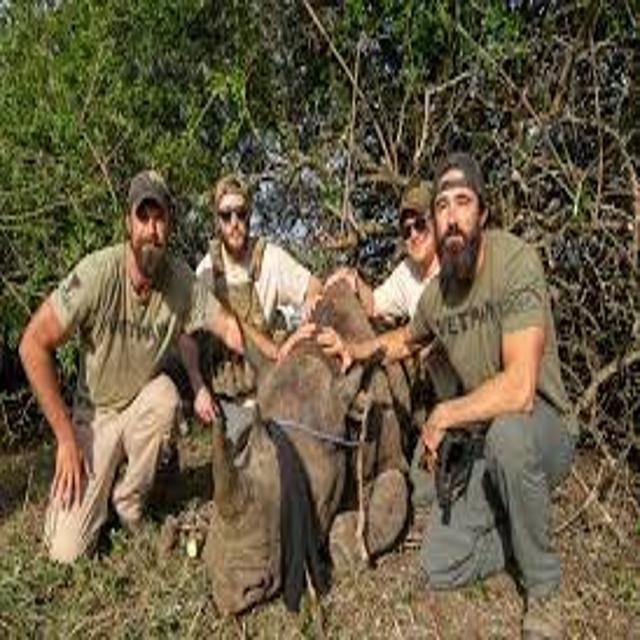Rinoceros: (163, 306, 420, 638)
